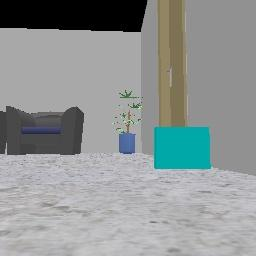fotoliu: (2, 106, 83, 152)
planta: (112, 102, 141, 152), (119, 90, 133, 98)
turcoaz: (155, 127, 210, 168)
